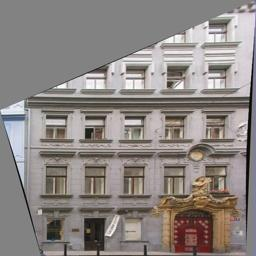building: (24, 4, 249, 249)
